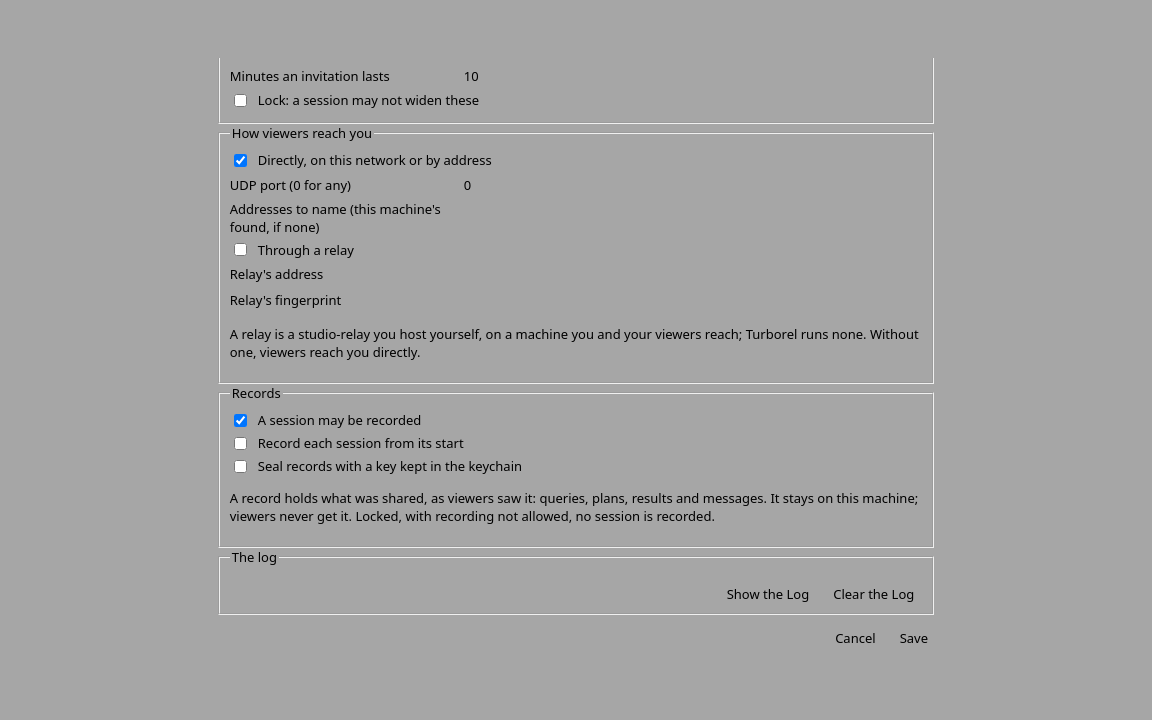
Test: Live Sessions' settings › tell a failure to read or keep them [DESIGN] D56
Later steps or results of the test are not shown.
(page scrolled)
Click the button "Show the Log".
click(768, 594)  # box [719, 583, 817, 605]
Click the button "Save".
click(914, 638)  # box [892, 627, 936, 650]
(page scrolled)
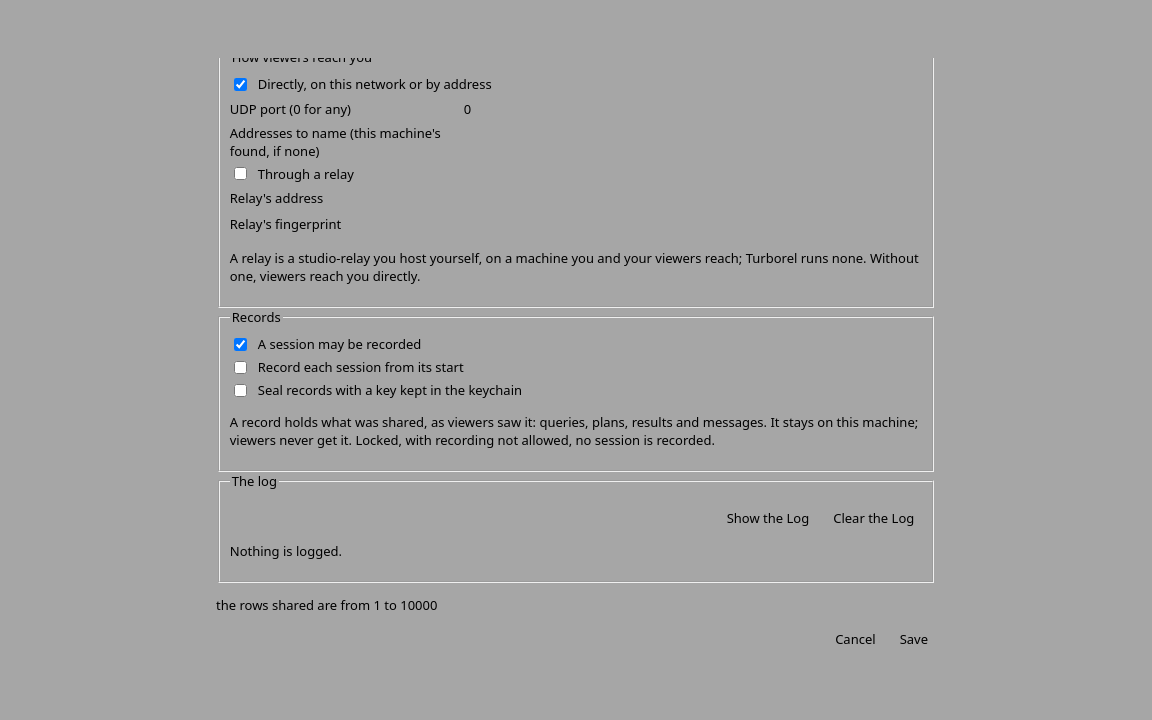
Expected: the message shows "1 to 10000", [216, 596, 437, 614]
